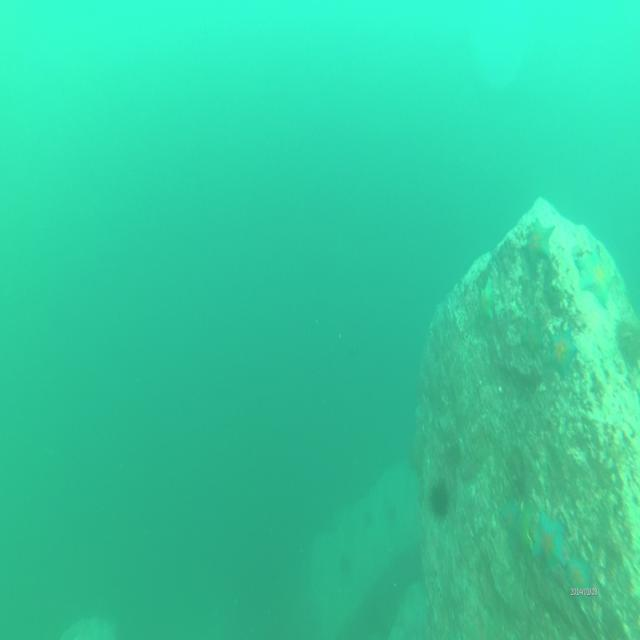echinus: (429, 477, 453, 518)
starfish: (577, 243, 617, 306), (534, 512, 568, 575), (544, 325, 580, 383), (500, 495, 533, 553), (522, 218, 556, 268), (566, 554, 594, 606), (477, 274, 499, 322)
